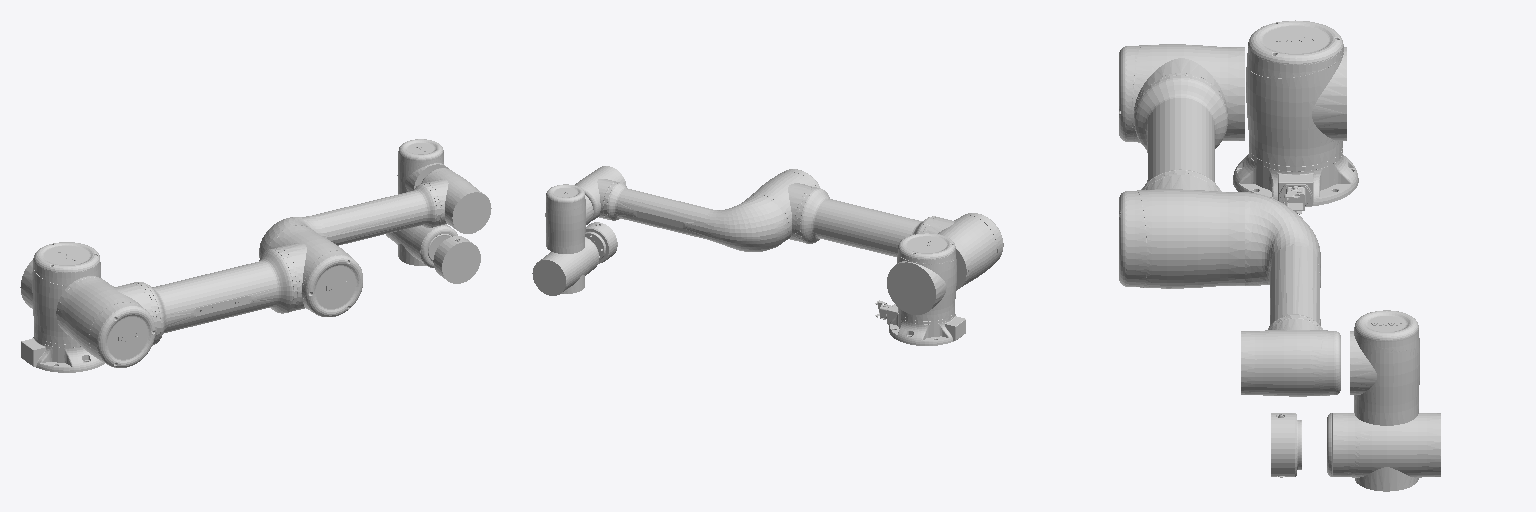
URDF robot description (jaka_zu5):
<?xml version="1.0" encoding="utf-8"?>
<!-- This URDF was automatically created by SolidWorks to URDF Exporter! Originally created by [author] ([email redacted]) 
     Commit Version: 1.5.1-0-g916b5db  Build Version: 1.5.7152.31018
     For more information, please see http://wiki.ros.org/sw_urdf_exporter -->
<robot
  name="jaka_zu5">

  <!-- LINK -->
  <!--link name="world" /-->
	<link name="dummy"> 
</link>
  <joint name="dummy_joint" type="fixed">
     <parent link="dummy"/>
     <child link="Link_0"/>
</joint>
  <link
    name="Link_0">
    <inertial>
      <origin
        xyz="0.00096371 8.8222E-08 0.019555"
        rpy="0 0 0" />
      <mass
        value="4.0392" />
      <inertia
        ixx="0.0048763"
        ixy="-1.8056E-07"
        ixz="2.5196E-05"
        iyy="0.0068003"
        iyz="-1.7678E-09"
        izz="0.010618" />
    </inertial>
    <visual>
      <origin
        xyz="0 0 0"
        rpy="0 0 0" />
      <geometry>
        <mesh
          filename="package://jaka_description/meshes/jaka_zu5_meshes/Link_0.STL" />
      </geometry>
      <material
        name="">
        <color
          rgba="0.84706 0.84706 0.84706 1" />
      </material>
    </visual>
    <collision>
      <origin
        xyz="0 0 0"
        rpy="0 0 0" />
      <geometry>
        <mesh
          filename="package://jaka_description/meshes/jaka_zu5_meshes/Link_0.STL" />
      </geometry>
    </collision>
  </link>
  <link
    name="Link_1">
    <inertial>
      <origin
        xyz="-2.5186E-07 0.0033226 -0.001509"
        rpy="0 0 0" />
      <mass
        value="15.135" />
      <inertia
        ixx="0.044302"
        ixy="1.5349E-07"
        ixz="-6.1966E-07"
        iyy="0.043091"
        iyz="1.4326E-05"
        izz="0.030523" />
    </inertial>
    <visual>
      <origin
        xyz="0 0 0"
        rpy="0 0 0" />
      <geometry>
        <mesh
          filename="package://jaka_description/meshes/jaka_zu5_meshes/Link_1.STL" />
      </geometry>
      <material
        name="">
        <color
          rgba="0.84706 0.84706 0.84706 1" />
      </material>
    </visual>
    <collision>
      <origin
        xyz="0 0 0"
        rpy="0 0 0" />
      <geometry>
        <mesh
          filename="package://jaka_description/meshes/jaka_zu5_meshes/Link_1.STL" />
      </geometry>
    </collision>
  </link>
  
  <link
    name="Link_2">
    <inertial>
      <origin
        xyz="0.215 6.4325E-09 -0.14315"
        rpy="0 0 0" />
      <mass
        value="45.847" />
      <inertia
        ixx="0.10377"
        ixy="-1.3562E-06"
        ixz="2.544E-07"
        iyy="1.5964"
        iyz="2.1509E-08"
        izz="1.5689" />
    </inertial>
    <visual>
      <origin
        xyz="0 0 0"
        rpy="0 0 0" />
      <geometry>
        <mesh
          filename="package://jaka_description/meshes/jaka_zu5_meshes/Link_2.STL" />
      </geometry>
      <material
        name="">
        <color
          rgba="0.84706 0.84706 0.84706 1" />
      </material>
    </visual>
    <collision>
      <origin
        xyz="0 0 0"
        rpy="0 0 0" />
      <geometry>
        <mesh
          filename="package://jaka_description/meshes/jaka_zu5_meshes/Link_2.STL" />
      </geometry>
    </collision>
  </link>
  
  <link
    name="Link_3">
    <inertial>
      <origin
        xyz="0.19087 -1.1862E-05 -0.010587"
        rpy="0 0 0" />
      <mass
        value="18.069" />
      <inertia
        ixx="0.022066"
        ixy="-3.4554E-06"
        ixz="-0.022609"
        iyy="0.41632"
        iyz="1.1508E-08"
        izz="0.41071" />
    </inertial>
    <visual>
      <origin
        xyz="0 0 0"
        rpy="0 0 0" />
      <geometry>
        <mesh
          filename="package://jaka_description/meshes/jaka_zu5_meshes/Link_3.STL" />
      </geometry>
      <material
        name="">
        <color
          rgba="0.84706 0.84706 0.84706 1" />
      </material>
    </visual>
    <collision>
      <origin
        xyz="0 0 0"
        rpy="0 0 0" />
      <geometry>
        <mesh
          filename="package://jaka_description/meshes/jaka_zu5_meshes/Link_3.STL" />
      </geometry>
    </collision>
  </link>
  
  <link
    name="Link_4">
    <inertial>
      <origin
        xyz="-2.1345E-06 -0.0058004 0.0026717"
        rpy="0 0 0" />
      <mass
        value="5.5525" />
      <inertia
        ixx="0.0092564"
        ixy="1.1341E-07"
        ixz="-1.2578E-08"
        iyy="0.0052251"
        iyz="-8.3499E-05"
        izz="0.0089683" />
    </inertial>
    <visual>
      <origin
        xyz="0 0 0"
        rpy="0 0 0" />
      <geometry>
        <mesh
          filename="package://jaka_description/meshes/jaka_zu5_meshes/Link_4.STL" />
      </geometry>
      <material
        name="">
        <color
          rgba="0.84706 0.84706 0.84706 1" />
      </material>
    </visual>
    <collision>
      <origin
        xyz="0 0 0"
        rpy="0 0 0" />
      <geometry>
        <mesh
          filename="package://jaka_description/meshes/jaka_zu5_meshes/Link_4.STL" />
      </geometry>
    </collision>
  </link>
  
  <link
    name="Link_5">
    <inertial>
      <origin
        xyz="-2.0304E-06 -0.0028889 -0.0023424"
        rpy="0 0 0" />
      <mass
        value="6.3339" />
      <inertia
        ixx="0.012993"
        ixy="-1.0764E-07"
        ixz="5.8559E-09"
        iyy="0.0058454"
        iyz="4.5426E-05"
        izz="0.0127" />
    </inertial>
    <visual>
      <origin
        xyz="0 0 0"
        rpy="0 0 0" />
      <geometry>
        <mesh
          filename="package://jaka_description/meshes/jaka_zu5_meshes/Link_5.STL" />
      </geometry>
      <material
        name="">
        <color
          rgba="0.84706 0.84706 0.84706 1" />
      </material>
    </visual>
    <collision>
      <origin
        xyz="0 0 0"
        rpy="0 0 0" />
      <geometry>
        <mesh
          filename="package://jaka_description/meshes/jaka_zu5_meshes/Link_5.STL" />
      </geometry>
    </collision>
  </link>
  
  <link
    name="Link_6">
    <inertial>
      <origin
        xyz="2.7652E-05 -1.3485E-05 -0.021245"
        rpy="0 0 0" />
      <mass
        value="1.4169" />
      <inertia
        ixx="0.00071853"
        ixy="-6.9778E-07"
        ixz="-6.378E-07"
        iyy="0.00072375"
        iyz="8.3072E-07"
        izz="0.0011337" />
    </inertial>
    <visual>
      <origin
        xyz="0 0 0"
        rpy="0 0 0" />
      <geometry>
        <mesh
          filename="package://jaka_description/meshes/jaka_zu5_meshes/Link_6.STL" />
      </geometry>
      <material
        name="">
        <color
          rgba="0.84706 0.84706 0.84706 1" />
      </material>
    </visual>
    <collision>
      <origin
        xyz="0 0 0"
        rpy="0 0 0" />
      <geometry>
        <mesh
          filename="package://jaka_description/meshes/jaka_zu5_meshes/Link_6.STL" />
      </geometry>
    </collision>
  </link>
  
  <!-- JOINT -->
  <!--joint name="fixed" type="fixed">
     <parent link="world"/>
     <child link="Link_0"/>
  </joint-->
  
  <joint
    name="joint_1"
    type="revolute">
    <origin
      xyz="0 0 0.12015"
      rpy="0 0 0" />
    <parent
      link="Link_0" />
    <child
      link="Link_1" />
    <axis
      xyz="0 0 1" />
    <limit
      lower="-6.28"
      upper="6.28"
      effort="2000"
      velocity="1.57" />
  </joint>
  
  <joint
    name="joint_2"
    type="revolute">
    <origin
      xyz="0 0 0"
      rpy="1.5708 0 0" />
    <parent
      link="Link_1" />
    <child
      link="Link_2" />
    <axis
      xyz="0 0 1" />
    <limit
      lower="-1.48"
      upper="4.62"
      effort="5000"
      velocity="1.57" />
  </joint>
  
  <joint
    name="joint_3"
    type="revolute">
    <origin
      xyz="0.43 0 0"
      rpy="0 0 0" />
    <parent
      link="Link_2" />
    <child
      link="Link_3" />
    <axis
      xyz="0 0 1" />
    <limit
      lower="-3.05"
      upper="3.05"
      effort="5000"
      velocity="1.57" />
  </joint>
  
  <joint
    name="joint_4"
    type="revolute">
    <origin
      xyz="0.3685 -1.185E-05 -0.114"
      rpy="0 0 0" />
    <parent
      link="Link_3" />
    <child
      link="Link_4" />
    <axis
      xyz="0 0 1" />
    <limit
      lower="-1.48"
      upper="4.62"
      effort="2000"
      velocity="1.57" />
  </joint>
  
  <joint
    name="joint_5"
    type="revolute">
    <origin
      xyz="0 -0.1135 0"
      rpy="1.5708 0 0" />
    <parent
      link="Link_4" />
    <child
      link="Link_5" />
    <axis
      xyz="0 0 1" />
    <limit
      lower="-6.28"
      upper="6.28"
      effort="3000"
      velocity="1.57" />
  </joint>
  
  <joint
    name="joint_6"
    type="revolute">
    <origin
      xyz="0 0.107 0"
      rpy="-1.5708 0 0" />
    <parent
      link="Link_5" />
    <child
      link="Link_6" />
    <axis
      xyz="0 0 1" />
    <limit
      lower="-6.28"
      upper="6.28"
      effort="1000"
      velocity="1.57" />
  </joint>
  
  <transmission name="trans_joint_1">
        <type>transmission_interface/SimpleTransmission</type>
        <joint name="joint_1">
            <hardwareInterface>hardware_interface/PositionJointInterface</hardwareInterface>
        </joint>
        <actuator name="joint_1_motor">
            <hardwareInterface>hardware_interface/PositionJointInterface</hardwareInterface>
            <mechanicalReduction>1</mechanicalReduction>
        </actuator>
    </transmission>
    <transmission name="trans_joint_2">
        <type>transmission_interface/SimpleTransmission</type>
        <joint name="joint_2">
            <hardwareInterface>hardware_interface/PositionJointInterface</hardwareInterface>
        </joint>
        <actuator name="joint_2_motor">
            <hardwareInterface>hardware_interface/PositionJointInterface</hardwareInterface>
            <mechanicalReduction>1</mechanicalReduction>
        </actuator>
    </transmission>
    <transmission name="trans_joint_3">
        <type>transmission_interface/SimpleTransmission</type>
        <joint name="joint_3">
            <hardwareInterface>hardware_interface/PositionJointInterface</hardwareInterface>
        </joint>
        <actuator name="joint_3_motor">
            <hardwareInterface>hardware_interface/PositionJointInterface</hardwareInterface>
            <mechanicalReduction>1</mechanicalReduction>
        </actuator>
    </transmission>
    <transmission name="trans_joint_4">
        <type>transmission_interface/SimpleTransmission</type>
        <joint name="joint_4">
            <hardwareInterface>hardware_interface/PositionJointInterface</hardwareInterface>
        </joint>
        <actuator name="joint_4_motor">
            <hardwareInterface>hardware_interface/PositionJointInterface</hardwareInterface>
            <mechanicalReduction>1</mechanicalReduction>
        </actuator>
    </transmission>
    <transmission name="trans_joint_5">
        <type>transmission_interface/SimpleTransmission</type>
        <joint name="joint_5">
            <hardwareInterface>hardware_interface/PositionJointInterface</hardwareInterface>
        </joint>
        <actuator name="joint_5_motor">
            <hardwareInterface>hardware_interface/PositionJointInterface</hardwareInterface>
            <mechanicalReduction>1</mechanicalReduction>
        </actuator>
    </transmission>
    <transmission name="trans_joint_6">
        <type>transmission_interface/SimpleTransmission</type>
        <joint name="joint_6">
            <hardwareInterface>hardware_interface/PositionJointInterface</hardwareInterface>
        </joint>
        <actuator name="joint_6_motor">
            <hardwareInterface>hardware_interface/PositionJointInterface</hardwareInterface>
            <mechanicalReduction>1</mechanicalReduction>
        </actuator>
    </transmission>
    <gazebo>
        <plugin name="gazebo_ros_control" filename="libgazebo_ros_control.so">
            <robotNamespace>/</robotNamespace>
        </plugin>
    </gazebo>
</robot>

--- What the picture shows (computed from the rendered views, not written in the file) ---
The picture shows the robot from 3 angles, left to right: view 1: azimuth 30°, elevation 25°; view 2: azimuth 150°, elevation 25°; view 3: azimuth 270°, elevation 25°; orthographic projection.
Robot: jaka_zu5 — 8 links, 7 joints (6 revolute, 1 fixed); root link dummy; default pose: every joint at zero.
Visible links, largest first — view 1: Link_2, Link_3, Link_1, Link_4, Link_0, Link_5, Link_6; view 2: Link_2, Link_3, Link_1, Link_4, Link_5, Link_0, Link_6; view 3: Link_2, Link_3, Link_1, Link_5, Link_4, Link_0, Link_6.
Boxes of the visible links, x1,y1,x2,y2 form: Link_2: (56,225,362,367); Link_3: (259,168,491,257); Link_1: (20,242,100,347); Link_4: (397,139,448,193); Link_0: (21,336,104,372); Link_5: (386,224,457,267); Link_6: (433,236,480,283); Link_2: (750,169,1003,290); Link_3: (575,166,786,251); Link_1: (887,233,956,324); Link_4: (545,184,593,253); Link_5: (532,237,598,295); Link_0: (875,300,965,345); Link_6: (585,222,617,263); Link_2: (1119,44,1244,288); Link_3: (1241,192,1340,396); Link_1: (1246,20,1346,171); Link_5: (1327,413,1440,491); Link_4: (1350,310,1419,425); Link_0: (1233,153,1358,214); Link_6: (1271,413,1301,477).
Bounding box of the posed robot: 0.9227 × 0.4037 × 0.2365 m (x, y, z).
Meshes: 7 distinct files referenced, 7 mesh visuals loaded (7 binary STL).
